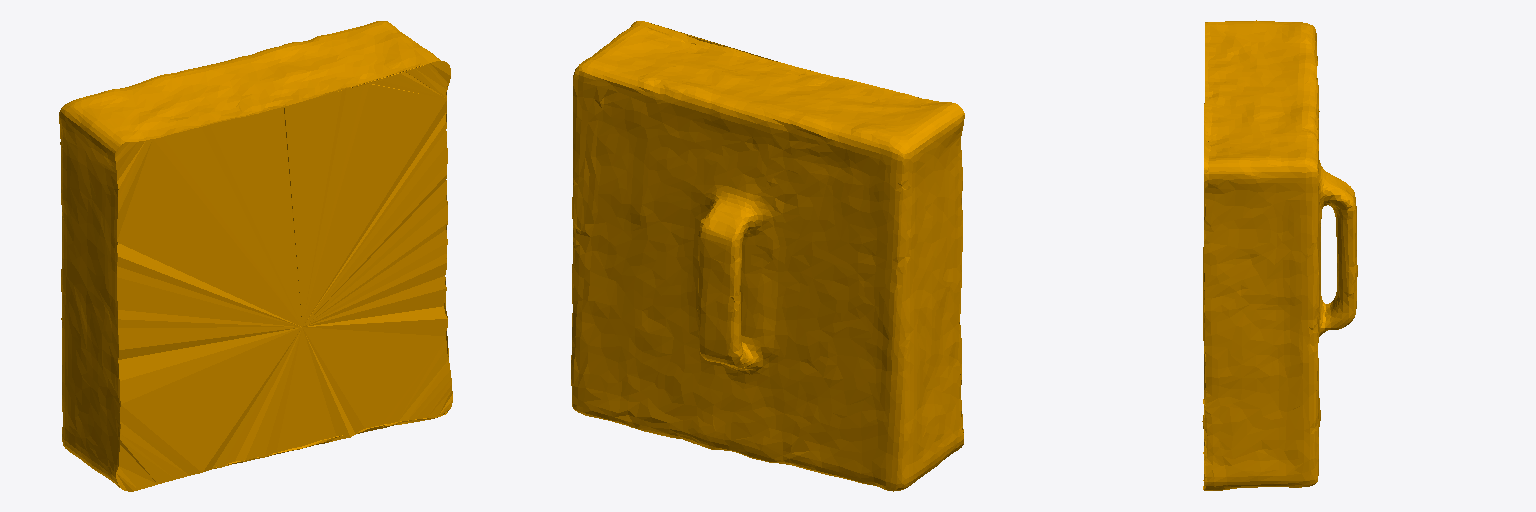
URDF robot description (potlid):
<?xml version="1.0" ?>
<!-- auto-generated by gen_object_urdf.py (TactiDex import) -->
<robot name="potlid">
  <link name="bottom">
    <inertial>
      <origin rpy="0 0 0" xyz="-0.0020217301 -0.0088159876 0.0018888446"/>
      <mass value="0.2"/>
      <inertia ixx="0.00097194791" ixy="-3.1046121e-06" ixz="7.9036605e-07"
               iyy="0.0016842163" iyz="-3.9569459e-06" izz="0.00095057418"/>
    </inertial>
    <visual>
      <origin rpy="0 0 0" xyz="0 0 0"/>
      <geometry><mesh filename="potlid.obj" scale="1 1 1"/></geometry>
    </visual>
      <collision>
        <origin rpy="0 0 0" xyz="0 0 0"/>
        <geometry><mesh filename="collision_parts/part_000.obj" scale="1 1 1"/></geometry>
      </collision>
      <collision>
        <origin rpy="0 0 0" xyz="0 0 0"/>
        <geometry><mesh filename="collision_parts/part_001.obj" scale="1 1 1"/></geometry>
      </collision>
      <collision>
        <origin rpy="0 0 0" xyz="0 0 0"/>
        <geometry><mesh filename="collision_parts/part_002.obj" scale="1 1 1"/></geometry>
      </collision>
      <collision>
        <origin rpy="0 0 0" xyz="0 0 0"/>
        <geometry><mesh filename="collision_parts/part_003.obj" scale="1 1 1"/></geometry>
      </collision>
      <collision>
        <origin rpy="0 0 0" xyz="0 0 0"/>
        <geometry><mesh filename="collision_parts/part_004.obj" scale="1 1 1"/></geometry>
      </collision>
      <collision>
        <origin rpy="0 0 0" xyz="0 0 0"/>
        <geometry><mesh filename="collision_parts/part_005.obj" scale="1 1 1"/></geometry>
      </collision>
      <collision>
        <origin rpy="0 0 0" xyz="0 0 0"/>
        <geometry><mesh filename="collision_parts/part_006.obj" scale="1 1 1"/></geometry>
      </collision>
      <collision>
        <origin rpy="0 0 0" xyz="0 0 0"/>
        <geometry><mesh filename="collision_parts/part_007.obj" scale="1 1 1"/></geometry>
      </collision>
      <collision>
        <origin rpy="0 0 0" xyz="0 0 0"/>
        <geometry><mesh filename="collision_parts/part_008.obj" scale="1 1 1"/></geometry>
      </collision>
      <collision>
        <origin rpy="0 0 0" xyz="0 0 0"/>
        <geometry><mesh filename="collision_parts/part_009.obj" scale="1 1 1"/></geometry>
      </collision>
  </link>
</robot>

--- What the picture shows (computed from the rendered views, not written in the file) ---
The picture shows the robot from 3 angles, left to right: view 1: azimuth 30°, elevation 25°; view 2: azimuth 150°, elevation 25°; view 3: azimuth 270°, elevation 25°; orthographic projection.
Robot: potlid — 1 links, 0 joints (none); root link bottom; default pose: every joint at zero.
Visible links, largest first — view 1: bottom; view 2: bottom; view 3: bottom.
Boxes of the visible links, x1=… form: bottom: x1=59, y1=21, x2=452, y2=491; bottom: x1=571, y1=21, x2=964, y2=491; bottom: x1=1202, y1=20, x2=1357, y2=490.
Size in the robot's own frame: 0.2326 by 0.0995 by 0.2342 metres.
Meshes: 1 distinct files referenced, 1 mesh visuals loaded (1 OBJ).
